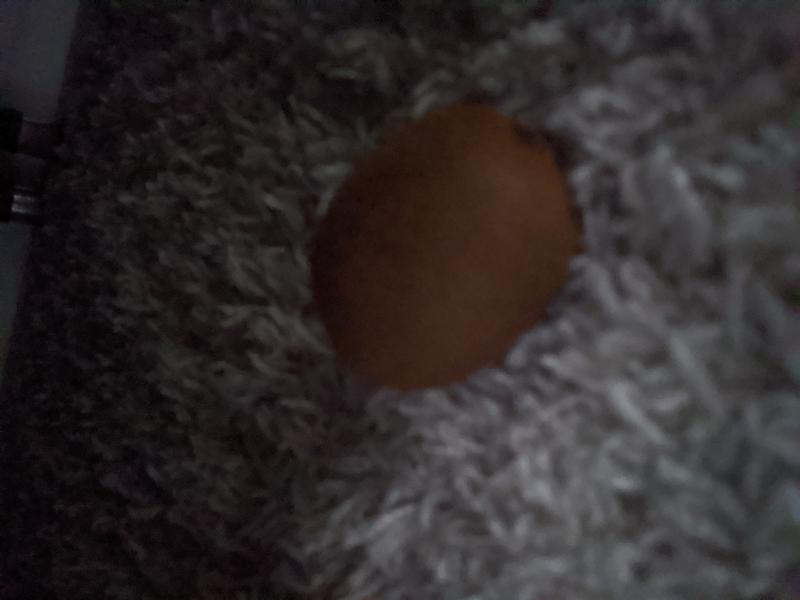kiwi: (310, 108, 573, 388)
